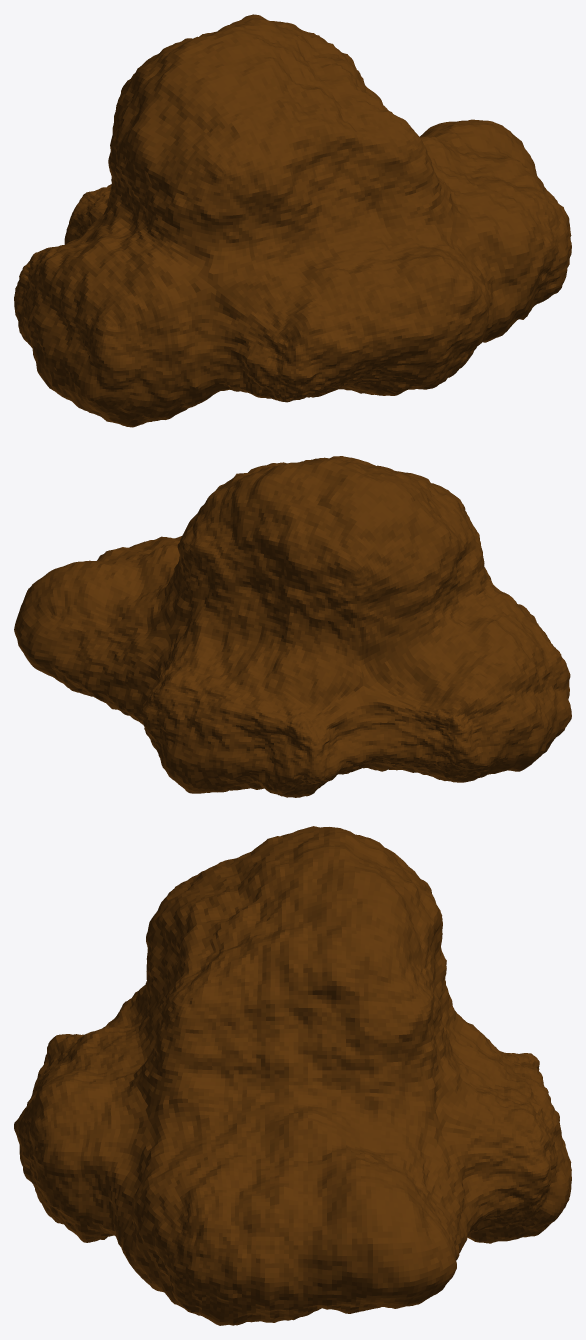
The model's file is Rock1.fbx.
The picture shows the model from 3 angles, top to bottom: view 1: azimuth 30°, elevation 25°; view 2: azimuth 150°, elevation 25°; view 3: azimuth 270°, elevation 25°; orthographic projection. The views are drawn at different scales.
Parts seen in each view (by area): view 1: Cube; view 2: Cube; view 3: Cube.
Boxes of the visible parts, x1,y1,x2,y2 form: Cube: (14, 14, 571, 427); Cube: (14, 456, 571, 797); Cube: (14, 826, 571, 1325).
Bounding box in the file's own units: 911 × 531 × 734.
